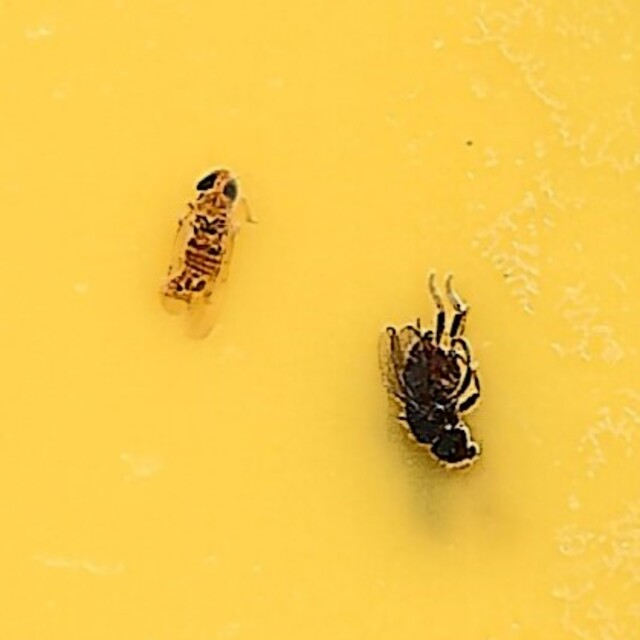Brachycera: (373, 278, 487, 475)
Hemiptera: (153, 165, 247, 346)
